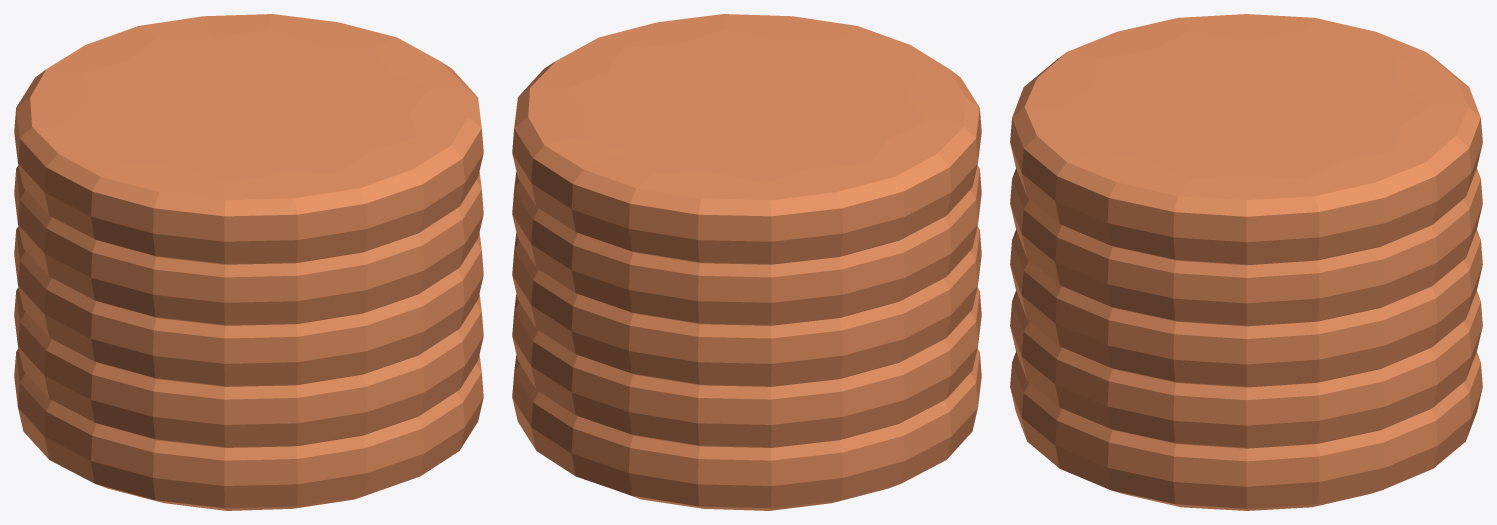
File: MeatTower.fbx
3 views of the same model, side by side, from view 1: azimuth 30°, elevation 25°; view 2: azimuth 150°, elevation 25°; view 3: azimuth 270°, elevation 25° (orthographic).
Visible parts, largest first — view 1: Meat; view 2: Meat; view 3: Meat.
Part boxes in pixels (box(x1,y1,x2,y2)): Meat: box(14, 14, 483, 510); Meat: box(512, 14, 981, 510); Meat: box(1010, 14, 1482, 510).
Size of the model in its own units: 17.52 by 13.01 by 17.53.
